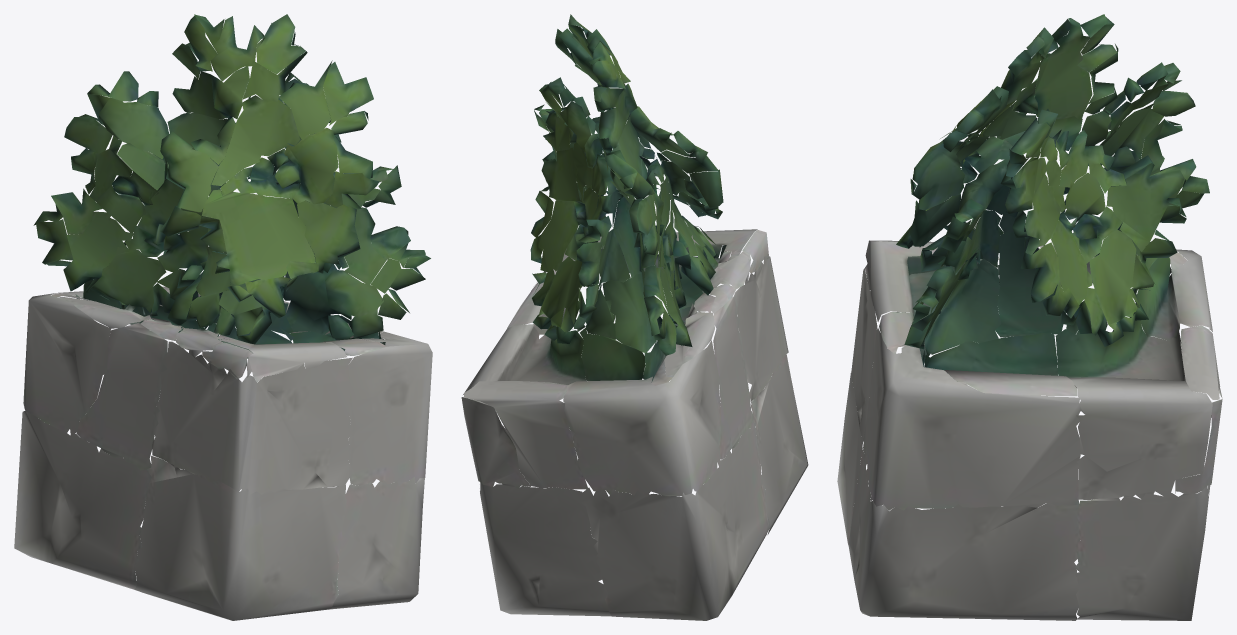
Rendered from prop17.glb.
3 renders of one model, left to right at view 1: azimuth 30°, elevation 25°; view 2: azimuth 150°, elevation 25°; view 3: azimuth 270°, elevation 25°, orthographic. The views are drawn at different scales.
Visible parts, largest first — view 1: tripo_node_111fcf6a-c017-4ae9-8ce9-5f21da791c56; view 2: tripo_node_111fcf6a-c017-4ae9-8ce9-5f21da791c56; view 3: tripo_node_111fcf6a-c017-4ae9-8ce9-5f21da791c56.
Boxes of the visible parts, x1,y1,x2,y2 form: tripo_node_111fcf6a-c017-4ae9-8ce9-5f21da791c56: (14,14,432,620); tripo_node_111fcf6a-c017-4ae9-8ce9-5f21da791c56: (461,14,808,620); tripo_node_111fcf6a-c017-4ae9-8ce9-5f21da791c56: (837,14,1222,620).
Size of the model in its own units: 0.5504 by 1 by 0.5943.
1 material, 1 textured.
